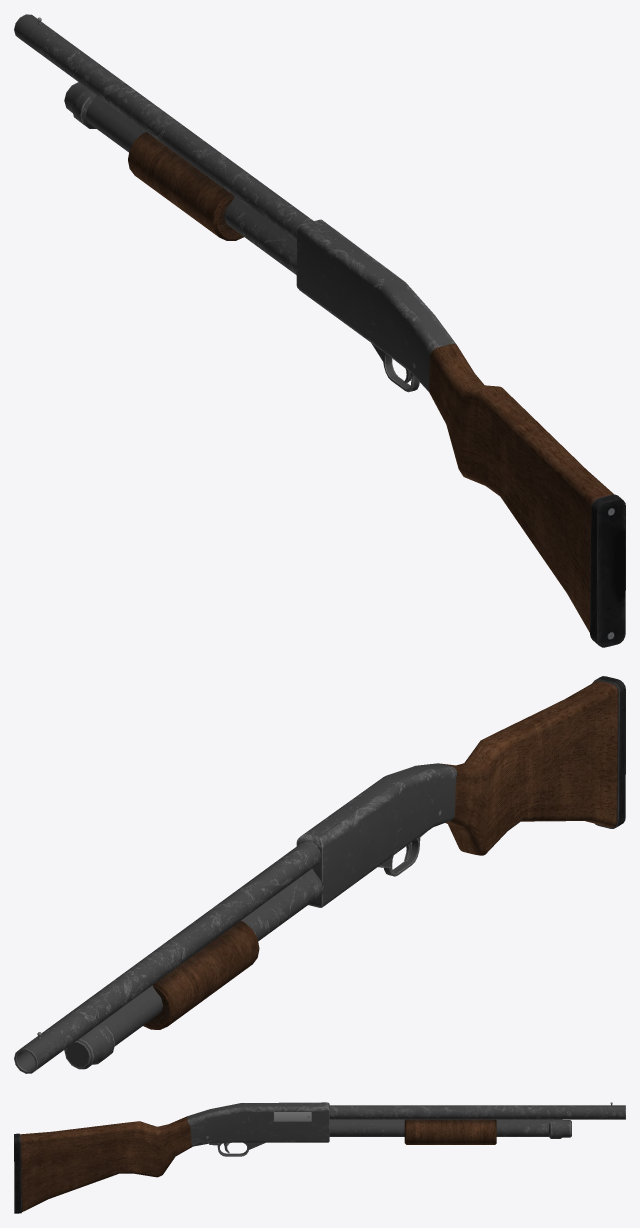
The model's file is Shotgun.glb.
3 views of the same model, one above another, from view 1: azimuth 30°, elevation 25°; view 2: azimuth 150°, elevation 25°; view 3: azimuth 270°, elevation 25° (orthographic). The views are drawn at different scales.
Parts seen in each view (by area): view 1: Shotgun; view 2: Shotgun; view 3: Shotgun.
Boxes of the visible parts, x1,y1,x2,y2 form: Shotgun: (14, 14, 625, 647); Shotgun: (14, 676, 625, 1073); Shotgun: (14, 1102, 625, 1213).
Bounding box in the file's own units: 0.0561 × 0.2407 × 1.22.
1 material, 1 textured.
